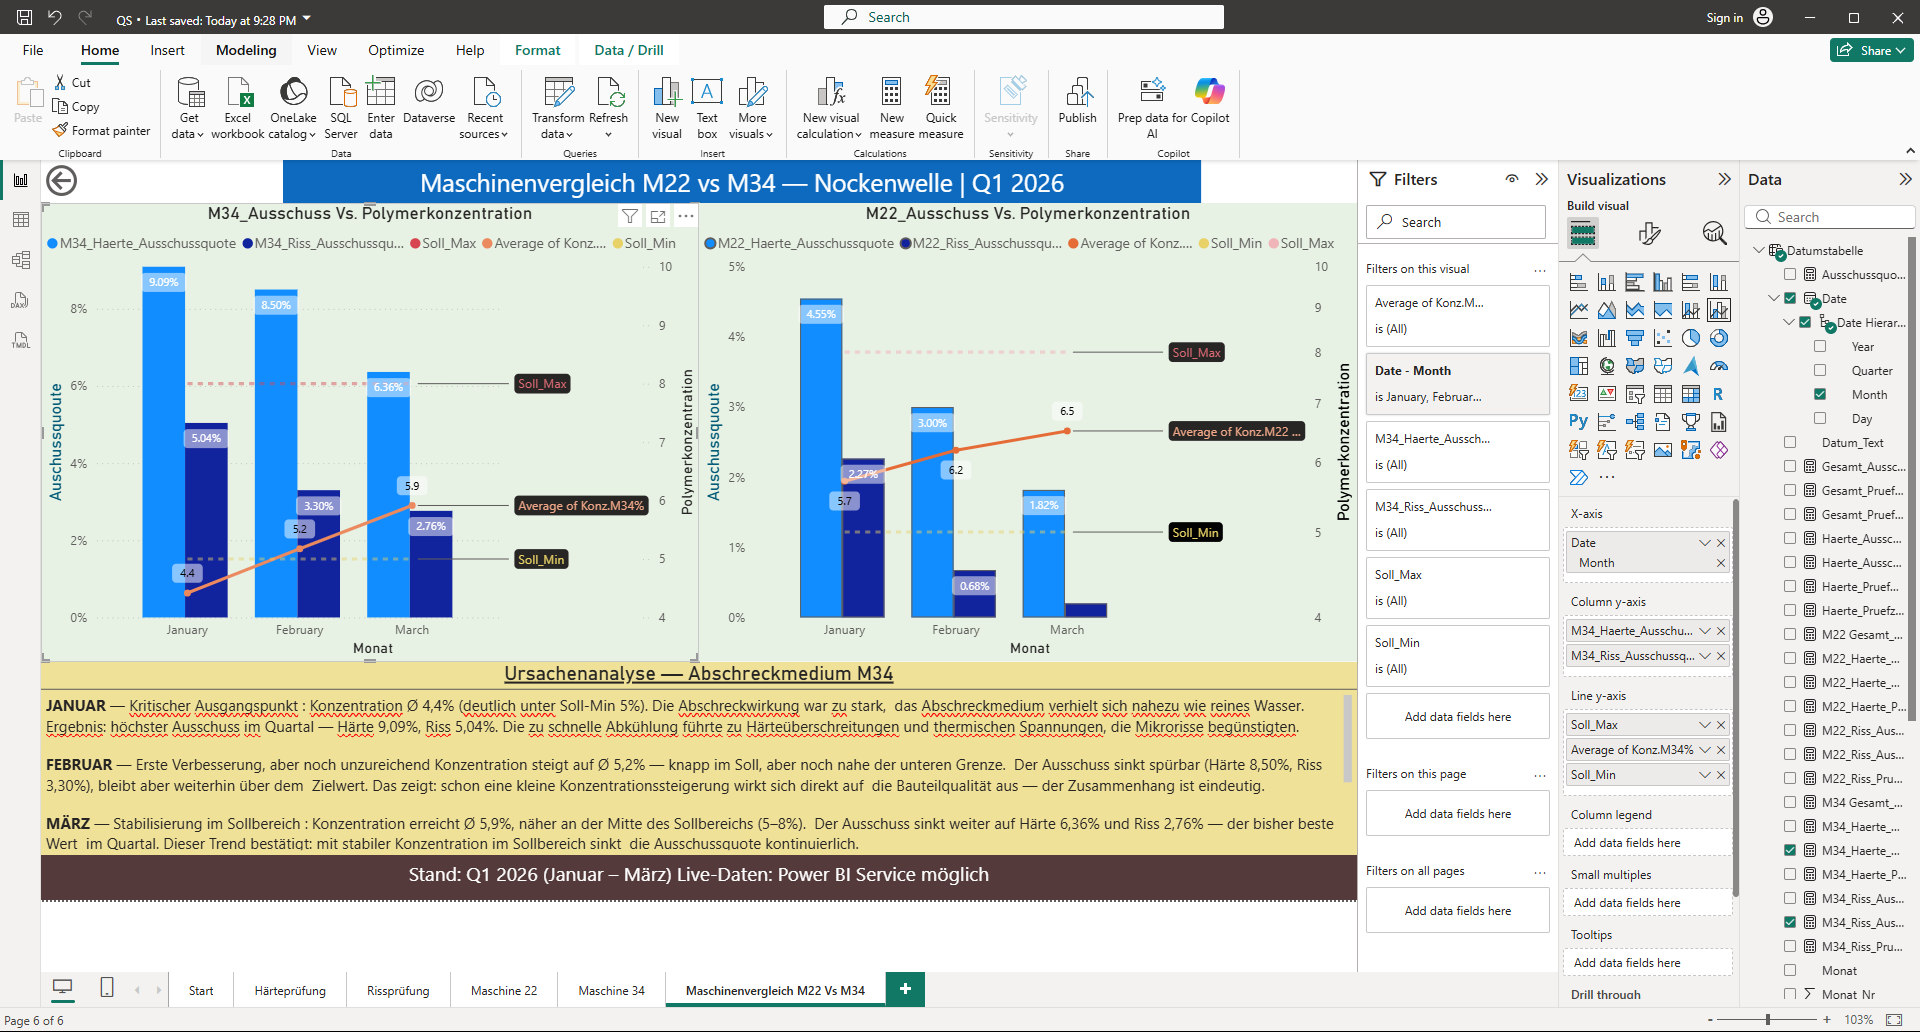

Layout of this report page (visuals, bound fields, positions):
{"tool":"powerbi","page":{"name":"Maschinenvergleich M22 Vs M34","canvas":[1280,720],"ordinal":5},"visuals":[{"type":"textbox","box":[235.5,0,892.8,42.1],"z":0},{"type":"textbox","title":" Ursachenanalyse — Abschreckmedium M34","box":[0,488.3,1280,187.7],"z":1000},{"type":"actionButton","box":[0,0,100,40],"z":2000},{"type":"lineClusteredColumnComboChart","title":"M34_Ausschuss Vs. Polymerkonzentration ","fields":{"Category":["Datumstabelle.Date.Variation.Date Hierarchy.Month"],"Y":["Datumstabelle.M34_Haerte_Ausschussquote","Datumstabelle.M34_Riss_Ausschussquote"],"Y2":["Datumstabelle.Soll_Max","Avg(Konzentration_M34.Konzentration %)","Datumstabelle.Soll_Min"]},"box":[0,41.8,640,446.4],"z":3000},{"type":"lineClusteredColumnComboChart","title":"M22_Ausschuss Vs. Polymerkonzentration  ","fields":{"Category":["Datumstabelle.Date.Variation.Date Hierarchy.Month"],"Y2":["Avg(Konzentration_M22.Konzentration %)","Datumstabelle.Soll_Min","Datumstabelle.Soll_Max"],"Y":["Datumstabelle.M22_Haerte_Ausschussquote","Datumstabelle.M22_Riss_Ausschussquote"]},"box":[640,41.8,640,446.4],"z":4000},{"type":"textbox","box":[0,676,1280,43.8],"z":5000}]}

Visuals, with their boxes on the page's 1280x720 design canvas (x1, y1, x2, y2). These are canvas units, not pixel positions in the 1920x1032 screenshot, which may show the page scaled, cropped or inside an application window:
textbox: 236/0/1128/42
" Ursachenanalyse — Abschreckmedium M34" textbox: 0/488/1280/676
actionButton: 0/0/100/40
"M34_Ausschuss Vs. Polymerkonzentration " lineClusteredColumnComboChart: 0/42/640/488
"M22_Ausschuss Vs. Polymerkonzentration  " lineClusteredColumnComboChart: 640/42/1280/488
textbox: 0/676/1280/720
